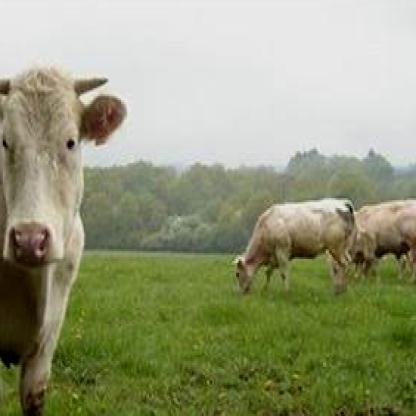cow: (1, 65, 127, 414), (230, 198, 356, 294), (342, 200, 415, 285)
